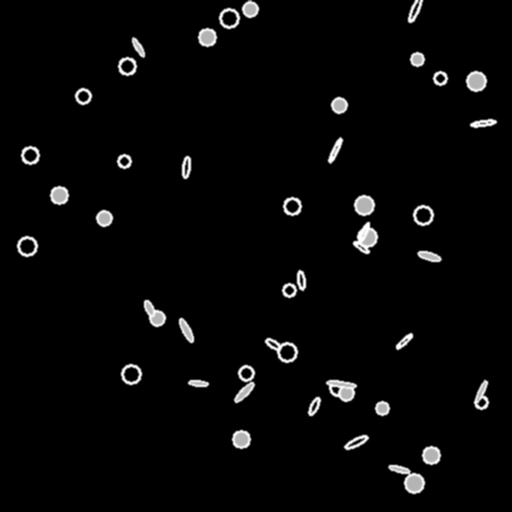pseudomonas: (233, 381, 255, 403), (177, 318, 195, 342), (327, 137, 343, 163), (344, 434, 368, 450), (407, 0, 423, 23), (474, 379, 488, 403), (395, 332, 413, 350), (357, 221, 371, 243), (417, 250, 441, 262), (131, 37, 145, 57), (307, 397, 321, 415), (264, 337, 282, 351), (352, 240, 370, 254), (142, 299, 156, 317), (327, 380, 355, 388), (470, 119, 496, 127), (296, 270, 306, 290), (389, 464, 409, 474), (182, 156, 190, 178), (189, 379, 207, 387)
synechocystis: (18, 237, 36, 255), (405, 474, 423, 492), (278, 343, 296, 361), (467, 72, 485, 90), (358, 228, 376, 246), (414, 206, 432, 224), (122, 365, 140, 383), (355, 196, 373, 214), (220, 9, 238, 27), (233, 431, 249, 447), (22, 147, 38, 163), (119, 58, 135, 74), (284, 198, 300, 214), (423, 447, 439, 463), (199, 29, 215, 45), (51, 187, 67, 203), (330, 381, 344, 395), (76, 89, 90, 103), (97, 211, 111, 225), (243, 2, 257, 16), (239, 366, 253, 380), (339, 386, 353, 400), (332, 98, 346, 112), (150, 311, 164, 325), (475, 396, 487, 408), (411, 53, 423, 65), (283, 284, 295, 296), (434, 72, 446, 84), (376, 402, 388, 414), (118, 155, 130, 167)
